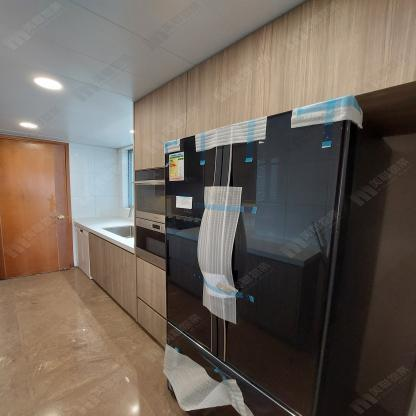Cupboard: (133, 1, 416, 170), (89, 231, 166, 351)
Fridge: (164, 96, 394, 414)
Oven: (133, 169, 167, 270)
Sink: (101, 225, 137, 237)
